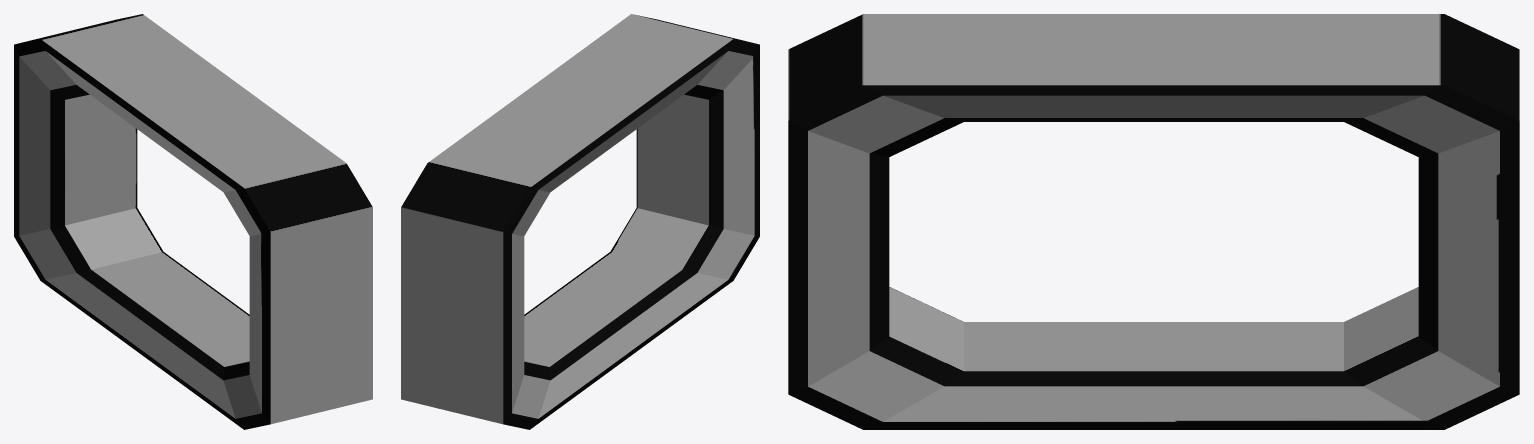
The model's file is eslavon.fbx.
3 renders of one model, left to right at view 1: azimuth 30°, elevation 25°; view 2: azimuth 150°, elevation 25°; view 3: azimuth 270°, elevation 25°, orthographic. The views are drawn at different scales.
Visible parts, largest first — view 1: cadena; view 2: cadena; view 3: cadena.
Part boxes in pixels (bbox=[...]): cadena: bbox=[14, 14, 372, 429]; cadena: bbox=[401, 14, 759, 429]; cadena: bbox=[788, 14, 1519, 429].
Bounding box in the file's own units: 9.02 × 19.7 × 37.85.
1 material, 1 textured.
